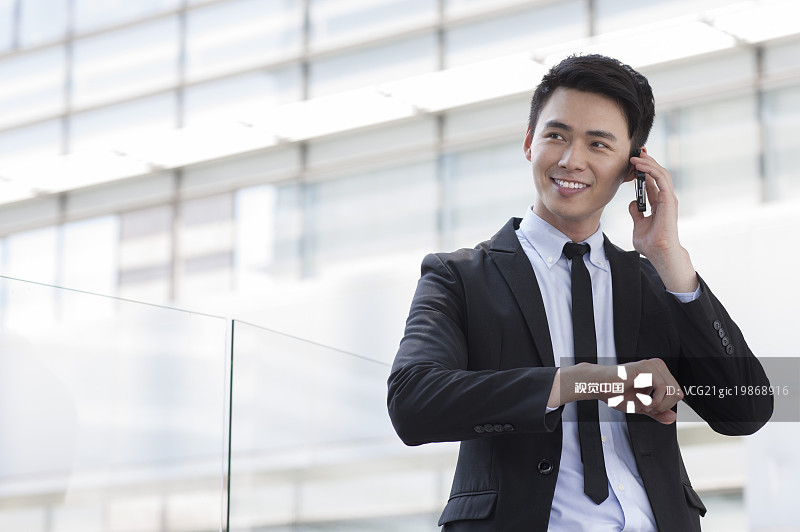calling: (623, 137, 693, 291)
